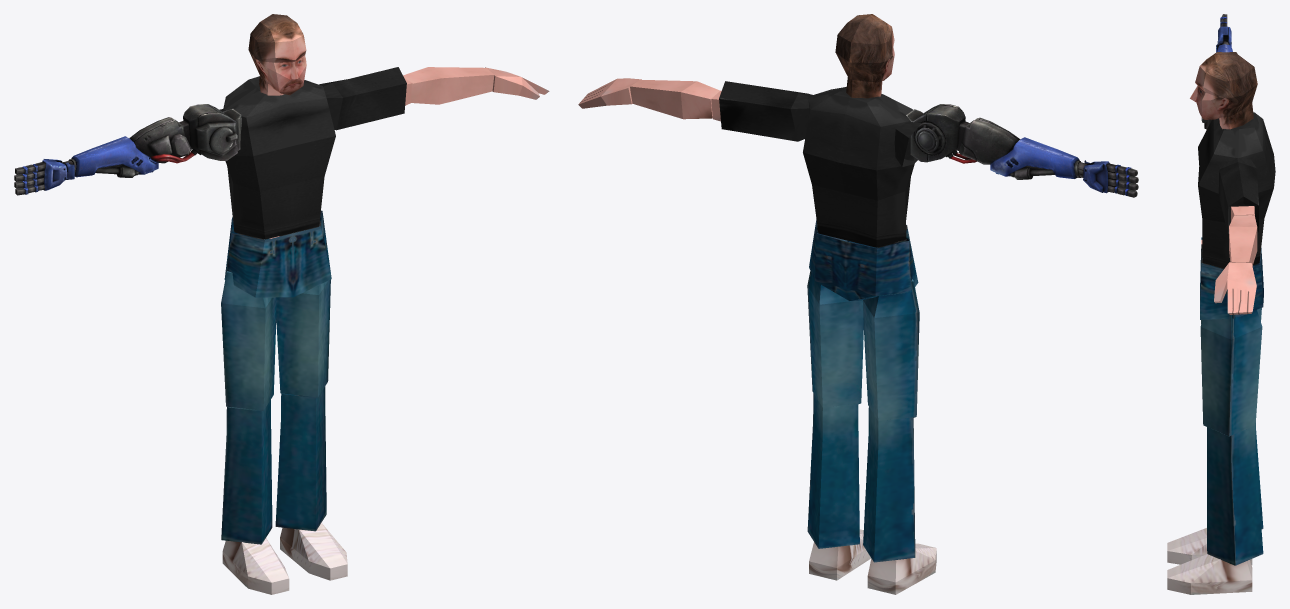
Rendered from havenmainkollu.fbx.
3 renders of one model, left to right at view 1: azimuth 30°, elevation 25°; view 2: azimuth 150°, elevation 25°; view 3: azimuth 270°, elevation 25°, orthographic. The views are drawn at different scales.
Visible parts, largest first — view 1: Body, Feedbacker.001; view 2: Body, Feedbacker.001; view 3: Body, Feedbacker.001.
Part boxes in pixels (box(x1,y1,x2,y2)): Body: box(219, 14, 549, 594); Feedbacker.001: box(14, 104, 241, 195); Body: box(578, 14, 936, 594); Feedbacker.001: box(906, 104, 1138, 197); Body: box(1167, 52, 1275, 594); Feedbacker.001: box(1201, 14, 1232, 130).
Size of the model in its own units: 196 by 190 by 35.99.
